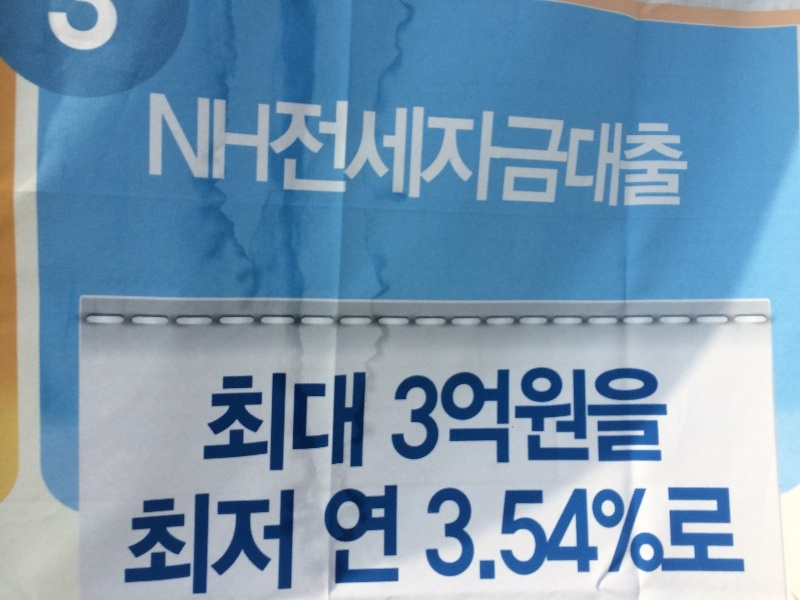text: (289, 98, 304, 216), (305, 98, 320, 216), (321, 98, 336, 216), (337, 98, 352, 216), (353, 98, 368, 216), (369, 98, 384, 216), (385, 98, 400, 216), (401, 98, 416, 216), (417, 98, 432, 216), (433, 98, 448, 216), (449, 98, 464, 216), (465, 98, 480, 216), (481, 98, 496, 216), (497, 98, 512, 216), (513, 98, 528, 216), (529, 98, 544, 216), (545, 98, 560, 216), (561, 98, 576, 216), (577, 98, 592, 216), (593, 98, 608, 216), (609, 98, 624, 216), (625, 98, 640, 216), (641, 98, 656, 216), (657, 98, 672, 216), (673, 98, 688, 216), (274, 98, 288, 216), (145, 489, 160, 596), (161, 489, 176, 596), (177, 489, 192, 596), (193, 489, 208, 596), (209, 489, 224, 596), (225, 489, 240, 596), (241, 489, 256, 596), (257, 489, 272, 596), (273, 489, 288, 596), (433, 482, 448, 586), (449, 482, 464, 586), (465, 482, 480, 586), (481, 482, 496, 586), (497, 482, 512, 586), (513, 482, 528, 586), (529, 482, 544, 586), (545, 482, 560, 586), (561, 482, 576, 586), (577, 482, 592, 586), (593, 482, 608, 586), (609, 482, 624, 586), (625, 482, 640, 586), (641, 482, 656, 586), (657, 482, 672, 586), (673, 482, 688, 586), (689, 482, 704, 586), (705, 482, 720, 586), (721, 482, 736, 586), (225, 371, 240, 472), (241, 371, 256, 472), (257, 371, 272, 472), (273, 371, 288, 472), (289, 371, 304, 472), (305, 371, 320, 472), (321, 371, 336, 472), (337, 371, 352, 472), (353, 371, 368, 472), (337, 485, 352, 585), (353, 485, 368, 585), (369, 485, 384, 585), (385, 485, 400, 585), (401, 365, 416, 465), (417, 365, 432, 465), (433, 365, 448, 465), (449, 365, 464, 465), (465, 365, 480, 465), (481, 365, 496, 465), (497, 365, 512, 465), (513, 365, 528, 465), (529, 365, 544, 465), (545, 365, 560, 465), (561, 365, 576, 465), (577, 365, 592, 465), (593, 365, 608, 465), (609, 365, 624, 465), (625, 365, 640, 465), (641, 365, 656, 465), (161, 89, 176, 188), (177, 89, 192, 188), (193, 89, 208, 188), (209, 89, 224, 188), (225, 89, 240, 188), (241, 89, 256, 188), (257, 89, 272, 188), (737, 482, 750, 586), (147, 89, 160, 188), (324, 485, 336, 585), (657, 365, 668, 465), (136, 489, 144, 596), (49, 1, 64, 55), (65, 1, 80, 55), (81, 1, 96, 55), (97, 1, 112, 55), (216, 371, 224, 472), (289, 489, 295, 596), (426, 482, 432, 586), (689, 98, 692, 216), (113, 1, 118, 55), (398, 365, 400, 465)
